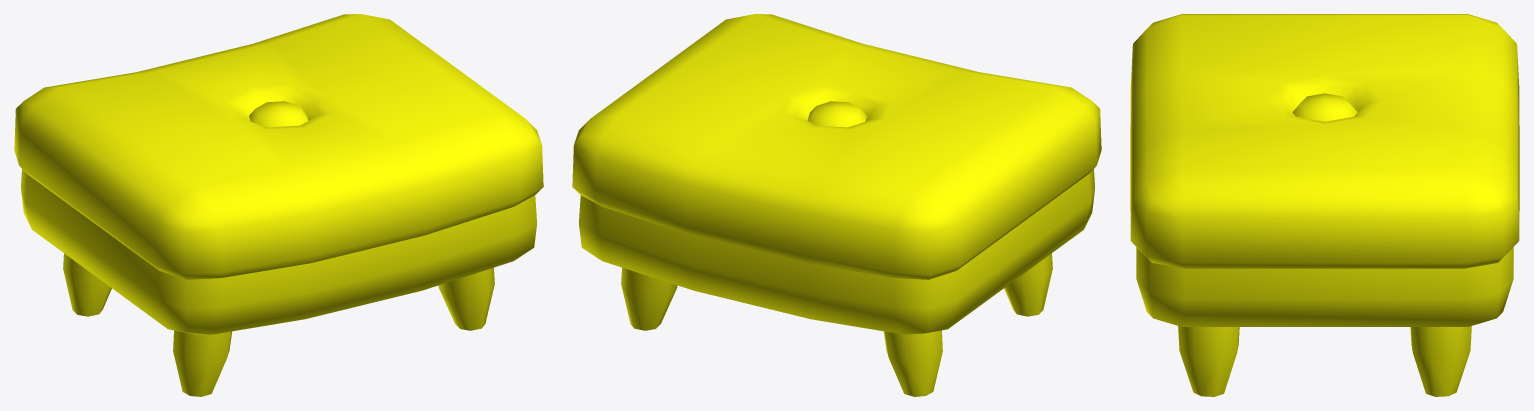
File: kaykit-footstool-green.glb
The picture shows the model from 3 angles, left to right: view 1: azimuth 30°, elevation 25°; view 2: azimuth 150°, elevation 25°; view 3: azimuth 270°, elevation 25°; orthographic projection. The views are drawn at different scales.
Visible parts, largest first — view 1: footstool_green; view 2: footstool_green; view 3: footstool_green.
Part boxes in pixels (x1,y1,x2,y2): footstool_green: (14,14,543,396); footstool_green: (572,14,1101,396); footstool_green: (1130,14,1519,396).
Size of the model in its own units: 0.8249 by 0.4444 by 0.688.
